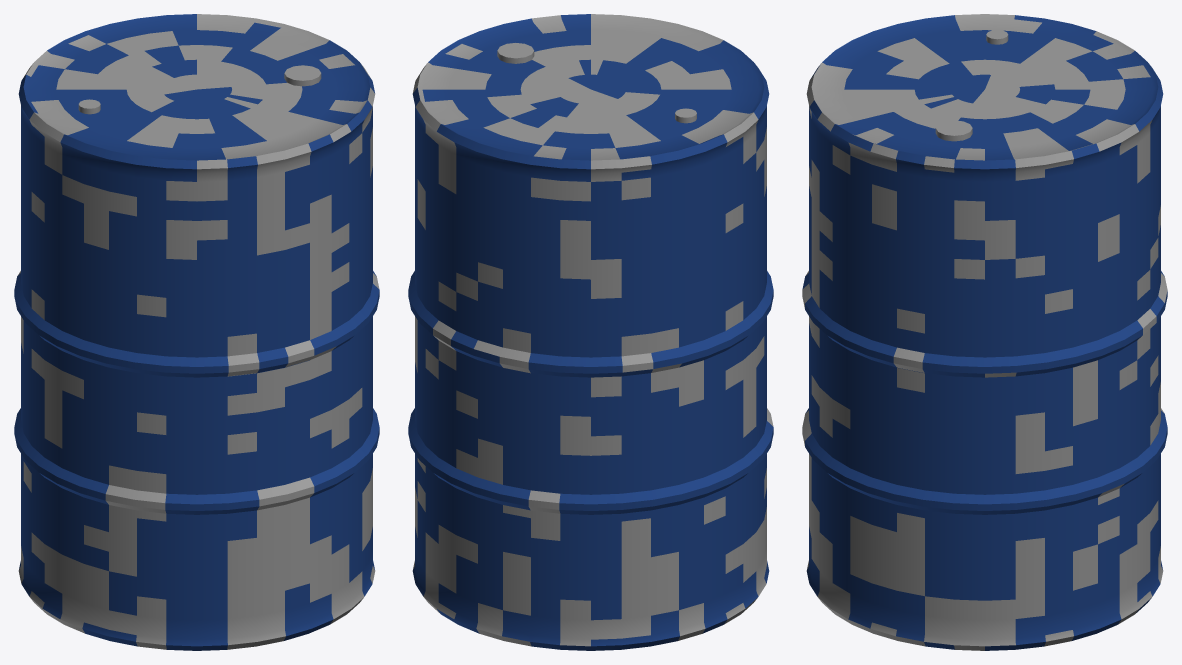
The model's file is oil_drum.glb.
3 views of the same model, side by side, from view 1: azimuth 30°, elevation 25°; view 2: azimuth 150°, elevation 25°; view 3: azimuth 270°, elevation 25° (orthographic).
Visible parts, largest first — view 1: oil_drum; view 2: oil_drum; view 3: oil_drum.
Part boxes in pixels (<box>): oil_drum: <box>14,14,379,650</box>; oil_drum: <box>408,14,773,650</box>; oil_drum: <box>802,14,1167,650</box>.
Bounding box in the file's own units: 0.594 × 0.886 × 0.594.
